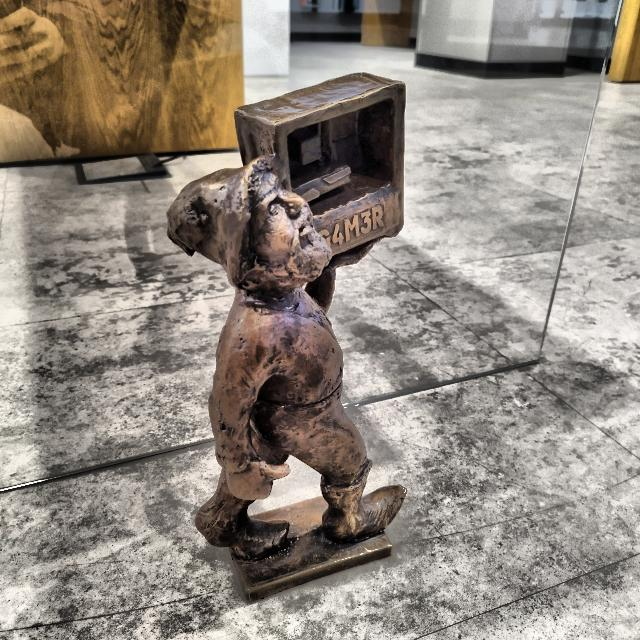GigaHercjusz: (168, 72, 406, 600)
